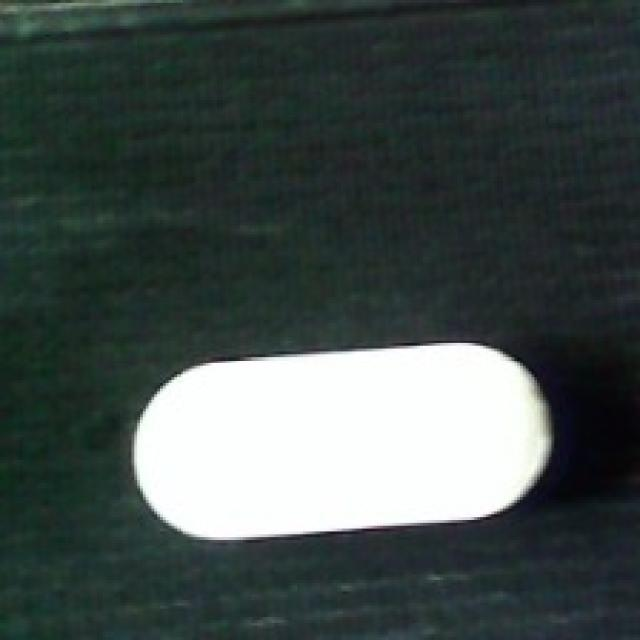no-defect: (126, 340, 554, 540)
